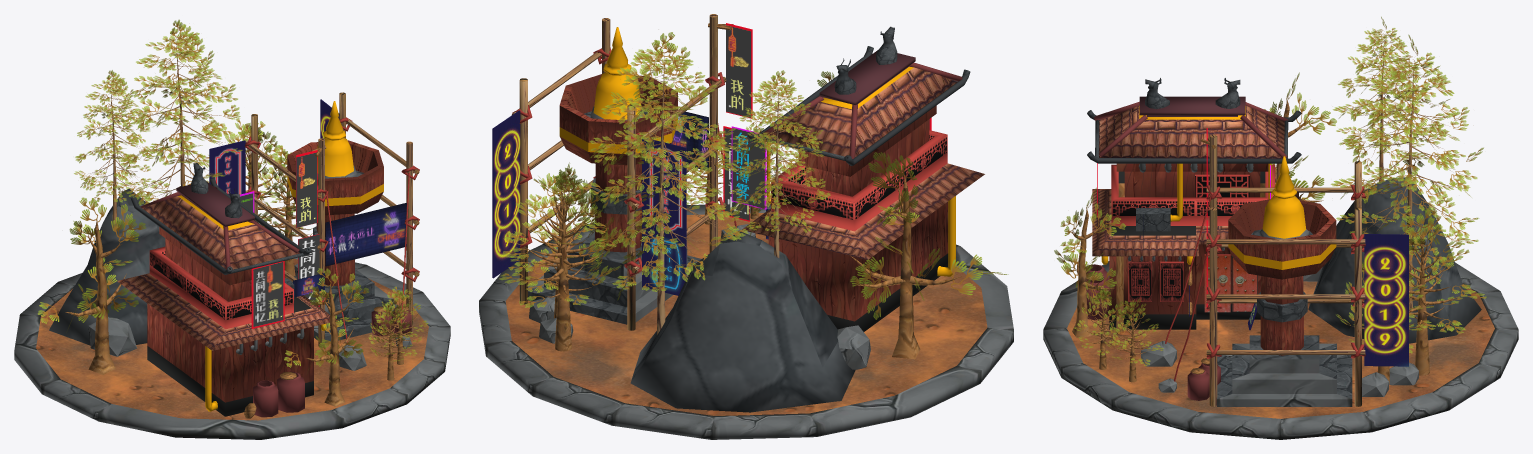
Rendered from dragon_gate_inn_with_neon.glb.
3 views of the same model, side by side, from view 1: azimuth 30°, elevation 25°; view 2: azimuth 150°, elevation 25°; view 3: azimuth 270°, elevation 25° (orthographic). The views are drawn at different scales.
Visible parts, largest first — view 1: Cylinder, Cube, Cube.005, leaves.006, Cylinder.038, Cylinder.028, leaves.007, Cube.013, leaves, Cylinder.029, Cube.012, Cube.018 (+25 smaller); view 2: Cylinder, Cylinder.038, Cube, leaves.006, Cube.005, Cylinder.028, leaves.007, Cylinder.029, Cube.012, Cube.014, Cube.017, leaves.004 (+19 smaller); view 3: Cylinder, Cube, Cube.005, leaves.006, Cylinder.038, Cylinder.028, Cube.012, Cube.017, leaves.007, Cylinder.029, Cylinder.030, Cylinder.037 (+27 smaller).
Part boxes in pixels (x1,y1,x2,y2): Cylinder: (14,257,450,439); Cube: (117,246,337,416); Cube.005: (142,181,299,301); leaves.006: (118,19,248,205); Cylinder.038: (49,188,165,345); Cylinder.028: (287,140,383,285); leaves.007: (74,70,154,206); Cube.013: (325,203,406,266); leaves: (37,197,146,328); Cylinder.029: (251,92,412,347); Cube.012: (286,269,397,342); Cube.018: (251,261,284,328); Cylinder: (479,203,1013,439); Cylinder.038: (630,231,855,412); Cube: (742,130,984,331); leaves.006: (578,32,748,300); Cube.005: (768,50,957,196); Cylinder.028: (559,74,677,252); leaves.007: (725,70,830,236); Cylinder.029: (519,14,717,330); Cube.012: (528,231,701,324); Cube.014: (642,138,686,295); Cube.017: (492,110,520,278); leaves.004: (499,162,622,307); Cylinder: (1043,261,1518,439); Cube: (1092,164,1298,329); Cube.005: (1099,96,1284,197); leaves.006: (1331,34,1483,284); Cylinder.038: (1308,177,1481,343); Cylinder.028: (1228,199,1336,355); Cube.012: (1217,335,1352,406); Cube.017: (1364,234,1408,366); leaves.007: (1333,17,1427,171); Cylinder.029: (1209,134,1361,406); Cylinder.030: (1206,187,1365,354); Cylinder.037: (1259,156,1308,239).
Bounding box in the file's own units: 14.97 × 10.32 × 14.4.
22 materials, 20 textured.
